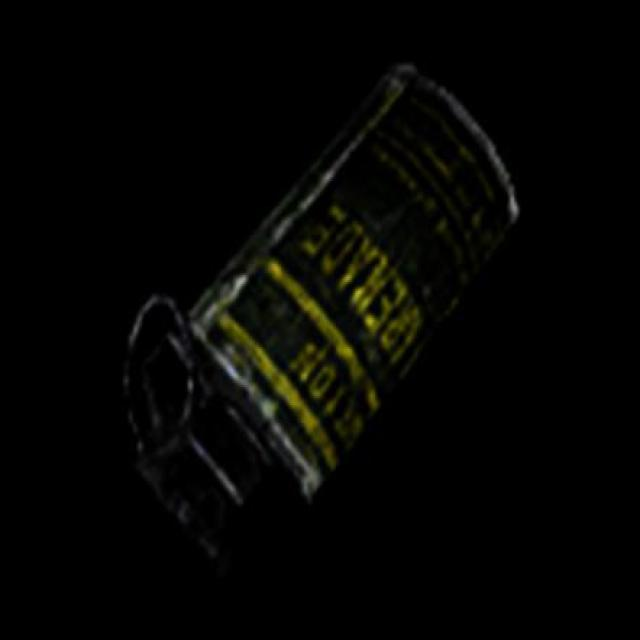grenade: (123, 63, 519, 576)
